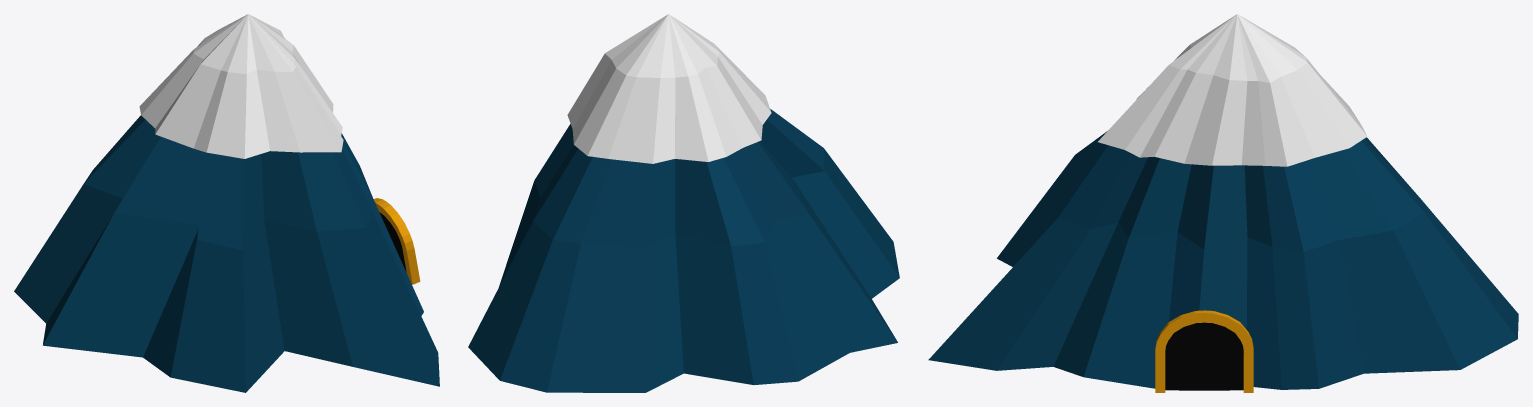
Rendered from Moutain.fbx.
3 views of the same model, side by side, from view 1: azimuth 30°, elevation 25°; view 2: azimuth 150°, elevation 25°; view 3: azimuth 270°, elevation 25° (orthographic). The views are drawn at different scales.
Parts seen in each view (by area): view 1: Moutain, Door; view 2: Moutain; view 3: Moutain, Door.
Part boxes in pixels (x1,y1,x2,y2): Moutain: (14,14,439,392); Door: (373,198,420,284); Moutain: (468,14,899,392); Moutain: (928,14,1518,389); Door: (1155,310,1253,392).
Bounding box in the file's own units: 785 × 611 × 1030.
